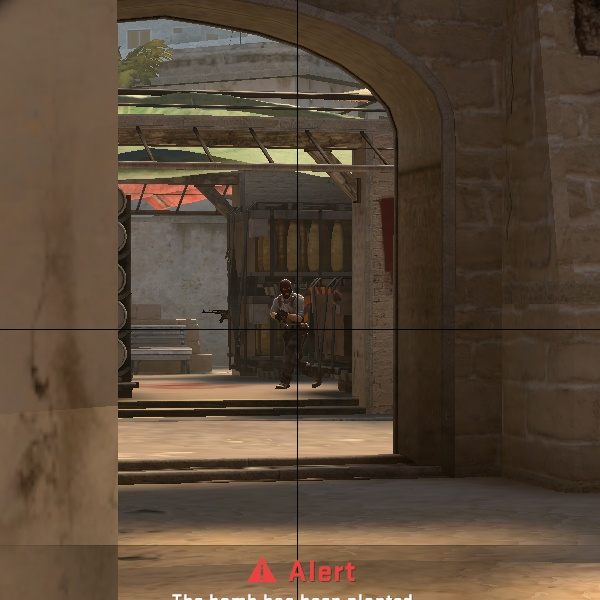t_body: (260, 275, 320, 392)
t_head: (271, 275, 300, 306)
